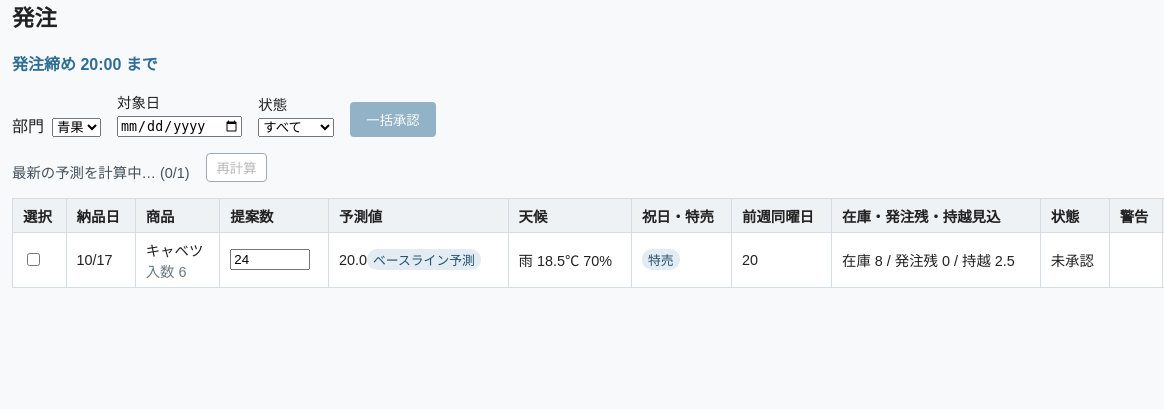
Test: held update is applied automatically once no unsaved input remains
Expected: the heading "発注" is shown, x1=12 y1=6 x2=57 y2=31
Clear the number field named "キャベツ の提案数" at {"x": 270, "y": 260}, box x1=230 y1=249 x2=310 y2=270
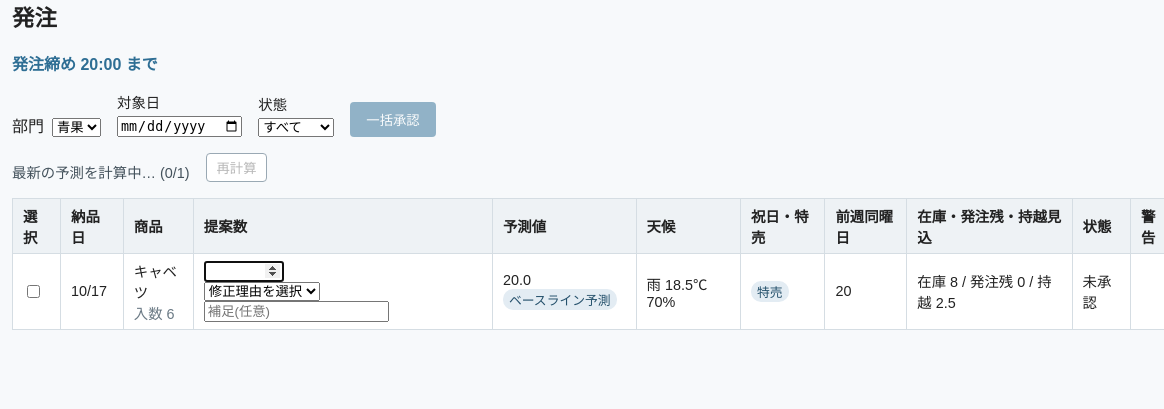
Type "20" into the number field named "キャベツ の提案数" at {"x": 244, "y": 271}, box x1=204 y1=261 x2=284 y2=282
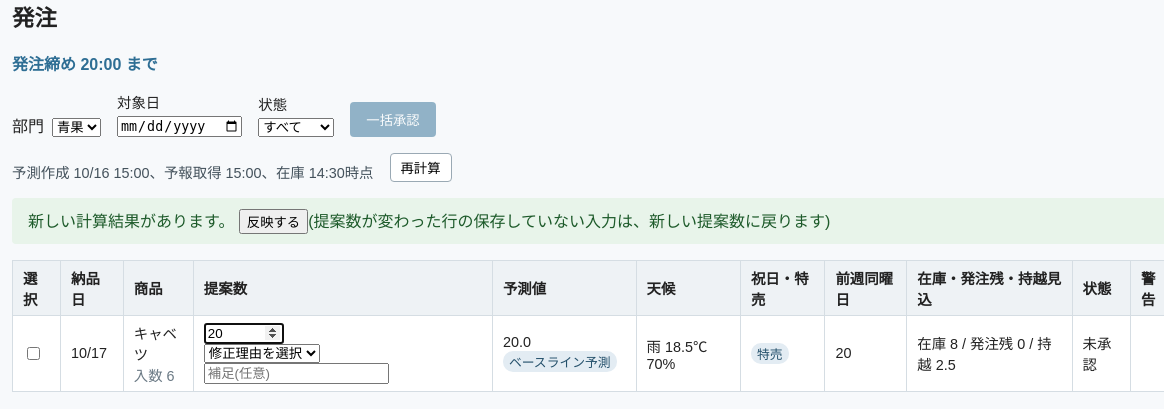
Now the text "新しい計算結果があります。" is shown, box x1=28 y1=213 x2=234 y2=230
Replace the text in the number field named "キャベツ の提案数" with "24" at {"x": 244, "y": 333}, box x1=204 y1=323 x2=284 y2=344
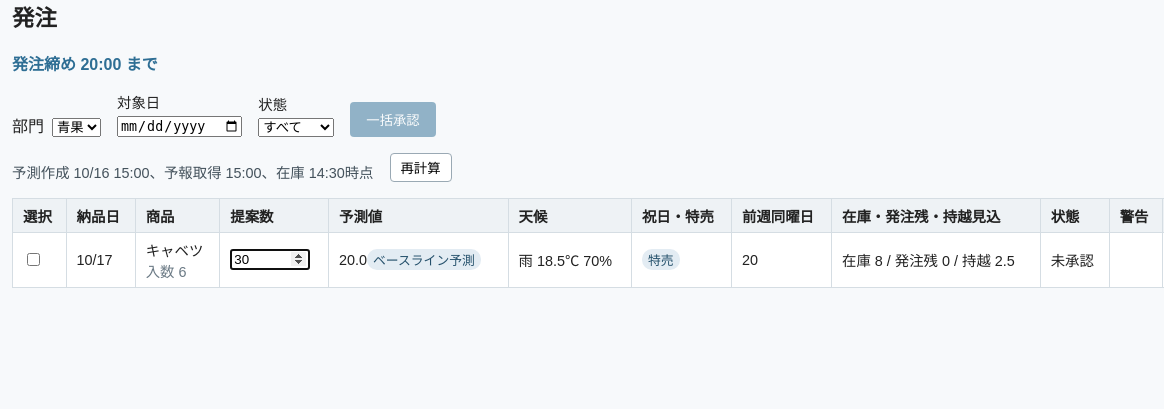
Now the number field named "キャベツ の提案数" holds "30", box x1=230 y1=249 x2=310 y2=270
Now the text "新しい計算結果があります。" is gone
